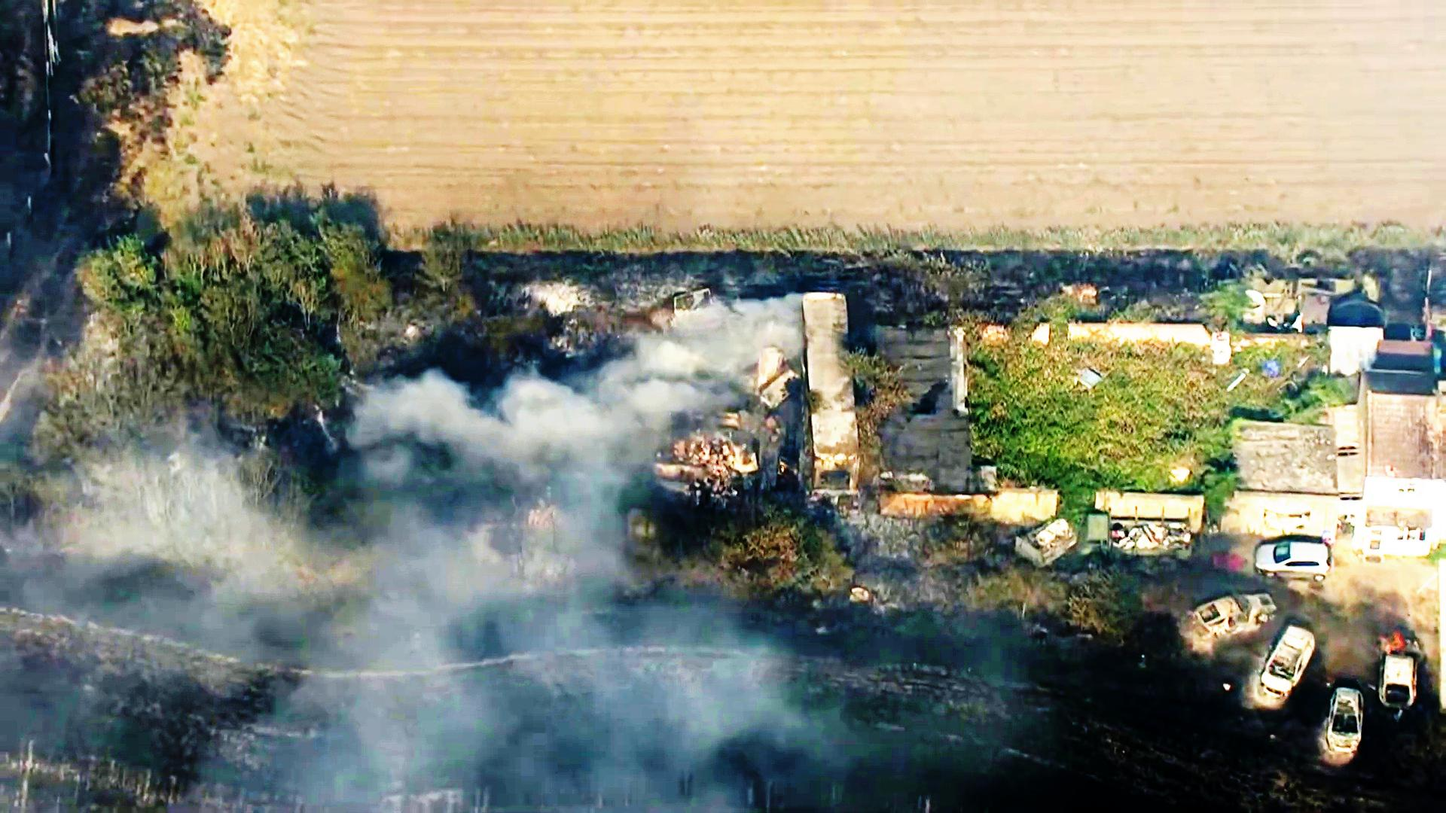smoke: (673, 301, 776, 378)
